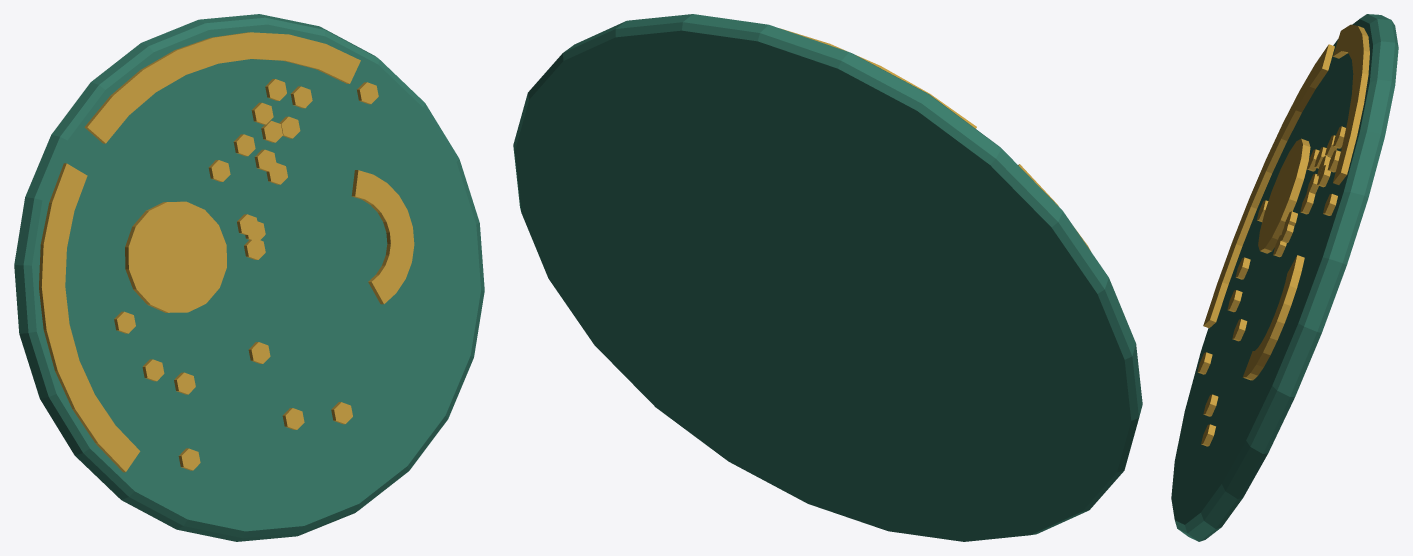
File: nebra.glb
3 renders of one model, left to right at view 1: azimuth 30°, elevation 25°; view 2: azimuth 150°, elevation 25°; view 3: azimuth 270°, elevation 25°, orthographic. The views are drawn at different scales.
Visible parts, largest first — view 1: nebra; view 2: nebra; view 3: nebra.
Part boxes in pixels (x1,y1,x2,y2): nebra: [14, 14, 484, 541]; nebra: [513, 14, 1142, 541]; nebra: [1171, 14, 1398, 541].
Bounding box in the file's own units: 0.7956 × 0.7398 × 0.3223.
